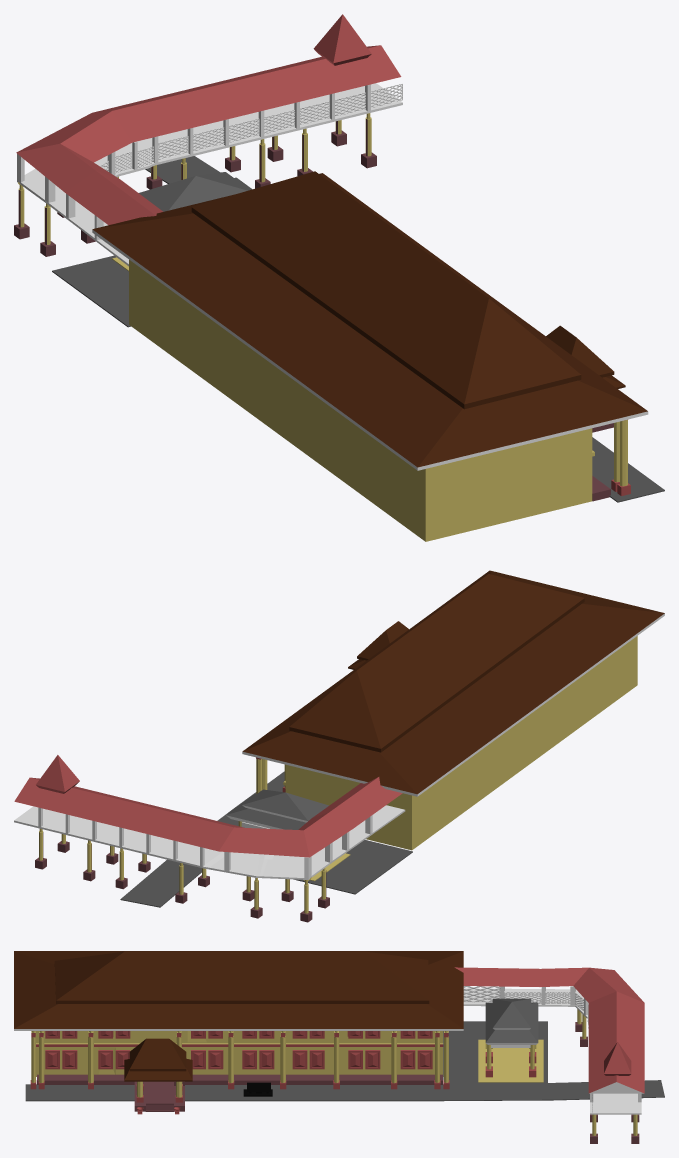
The model's file is MuseumPengkhianataPKI.fbx.
3 renders of one model, top to bottom at view 1: azimuth 30°, elevation 25°; view 2: azimuth 150°, elevation 25°; view 3: azimuth 270°, elevation 25°, orthographic. The views are drawn at different scales.
Visible parts, largest first — view 1: Cube.005, Cube.010, Cube, Cube.071, Cube.070, Cube.039, Cube.056, Cube.072, Cube.006, Cube.009; view 2: Cube.005, Cube.010, Cube, Cube.071, Cube.070, Cube.039, Cube.056, Cube.055, Cube.072, Cube.006; view 3: Cube.010, Cube.005, Cube.039, Cube, Cube.071, Cube.003, Cube.009, Cube.070, Cube.006, Cube.047, Cube.055, Cube.002 (+10 smaller).
Part boxes in pixels (x1=…): Cube.005: x1=92, y1=173, x2=648, y2=470; Cube.010: x1=191, y1=171, x2=581, y2=409; Cube: x1=129, y1=260, x2=594, y2=541; Cube.071: x1=16, y1=45, x2=401, y2=225; Cube.070: x1=17, y1=83, x2=402, y2=266; Cube.039: x1=52, y1=156, x2=664, y2=502; Cube.056: x1=139, y1=172, x2=249, y2=211; Cube.072: x1=313, y1=14, x2=371, y2=65; Cube.006: x1=546, y1=325, x2=625, y2=388; Cube.009: x1=611, y1=419, x2=630, y2=496; Cube.005: x1=242, y1=570, x2=664, y2=796; Cube.010: x1=289, y1=574, x2=584, y2=752; Cube: x1=283, y1=636, x2=637, y2=850; Cube.071: x1=14, y1=777, x2=402, y2=857; Cube.070: x1=14, y1=805, x2=405, y2=879; Cube.039: x1=120, y1=771, x2=412, y2=907; Cube.056: x1=242, y1=789, x2=328, y2=822; Cube.055: x1=226, y1=794, x2=305, y2=829; Cube.072: x1=36, y1=755, x2=79, y2=793; Cube.006: x1=348, y1=621, x2=408, y2=669; Cube.010: x1=54, y1=951, x2=429, y2=1003; Cube.005: x1=14, y1=951, x2=463, y2=1030; Cube.039: x1=25, y1=1021, x2=664, y2=1101; Cube: x1=35, y1=1031, x2=443, y2=1076; Cube.071: x1=454, y1=967, x2=644, y2=1093; Cube.003: x1=37, y1=1074, x2=442, y2=1084; Cube.009: x1=30, y1=1031, x2=449, y2=1089; Cube.070: x1=463, y1=986, x2=641, y2=1114; Cube.006: x1=124, y1=1038, x2=192, y2=1081; Cube.047: x1=478, y1=1039, x2=543, y2=1082; Cube.055: x1=485, y1=1002, x2=538, y2=1044; Cube.002: x1=134, y1=1081, x2=184, y2=1111.
Size of the model in its own units: 9697 by 3877 by 19613.
